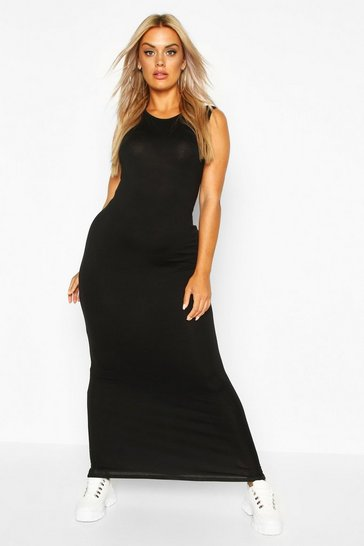S_dress: (72, 105, 268, 498)
